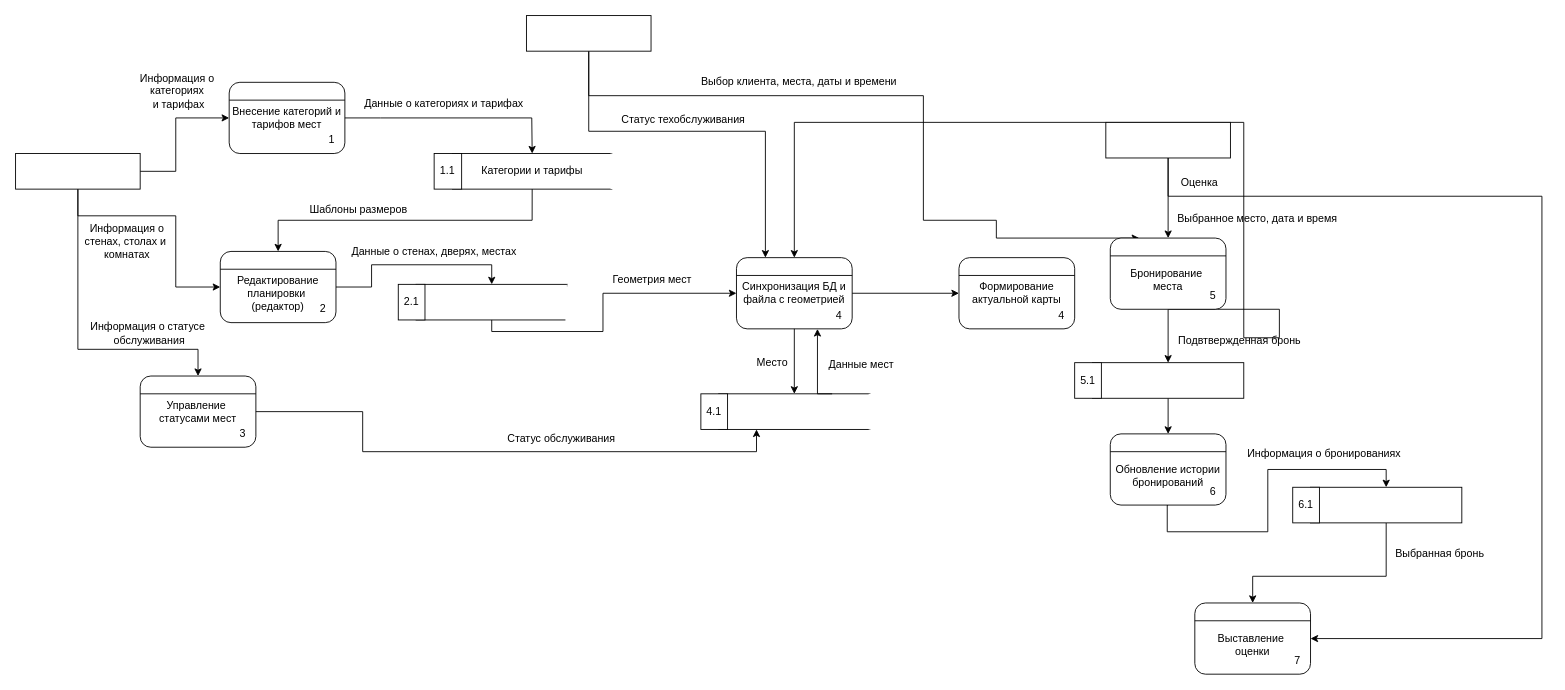
This 1565x690 diagram has some shape labels left out. The shapes that lost their labels are listed below. From the top down, each one's centre as x and y in pixels, then its label:
At pixel 588 33: "Менеджер".
At pixel 1167 139: "Клиент".
At pixel 77 171: "Администратор".
At pixel 491 301: "Файл с геометрией".
At pixel 1168 380: "Список активных бронирований".
At pixel 794 411: "Места (БД)".
At pixel 1386 504: "История бронирований".
